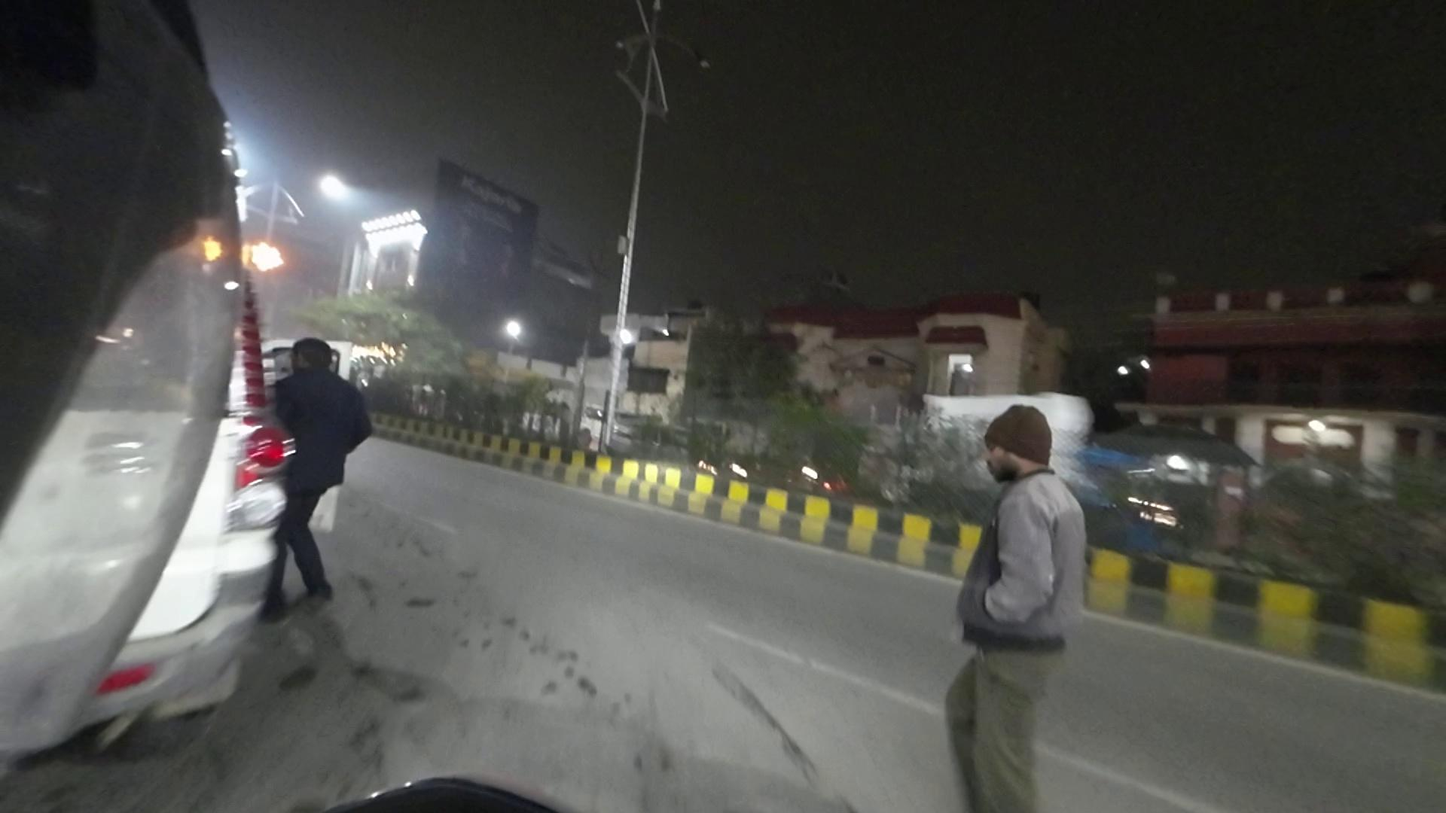streetlight: (672, 41, 714, 72)
